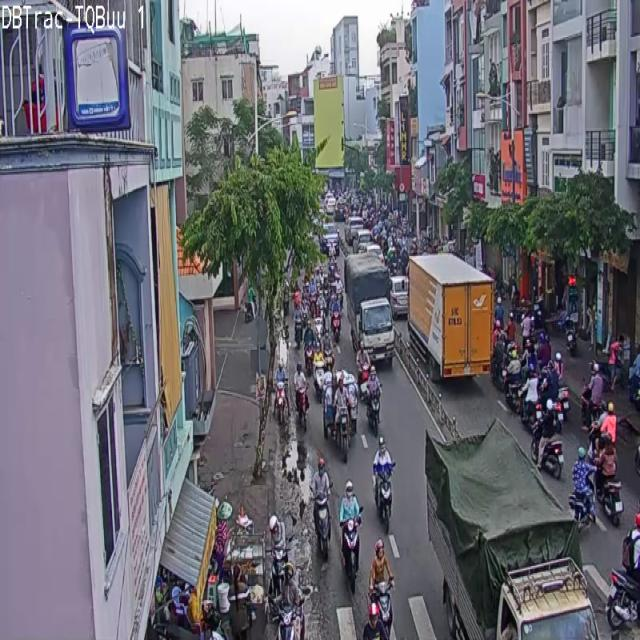car: (531, 401, 563, 476), (369, 539, 394, 629), (340, 481, 360, 592), (372, 435, 394, 530), (569, 447, 595, 523), (314, 458, 330, 558), (366, 368, 381, 434), (294, 364, 308, 427)
truck: (426, 421, 582, 639), (407, 255, 494, 380), (496, 558, 598, 639), (345, 252, 393, 363)
